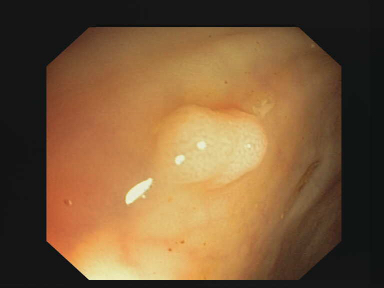polyp: (153, 103, 268, 185)
